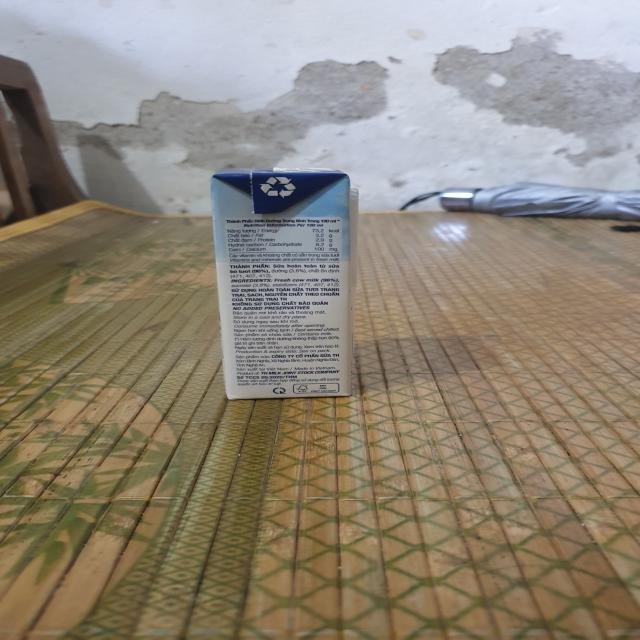TH: (207, 165, 373, 404)
